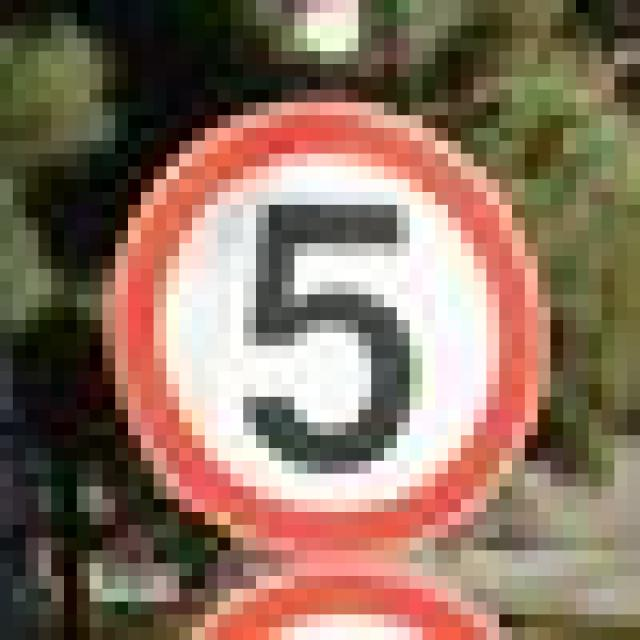speed_limit_20: (90, 77, 538, 550)
